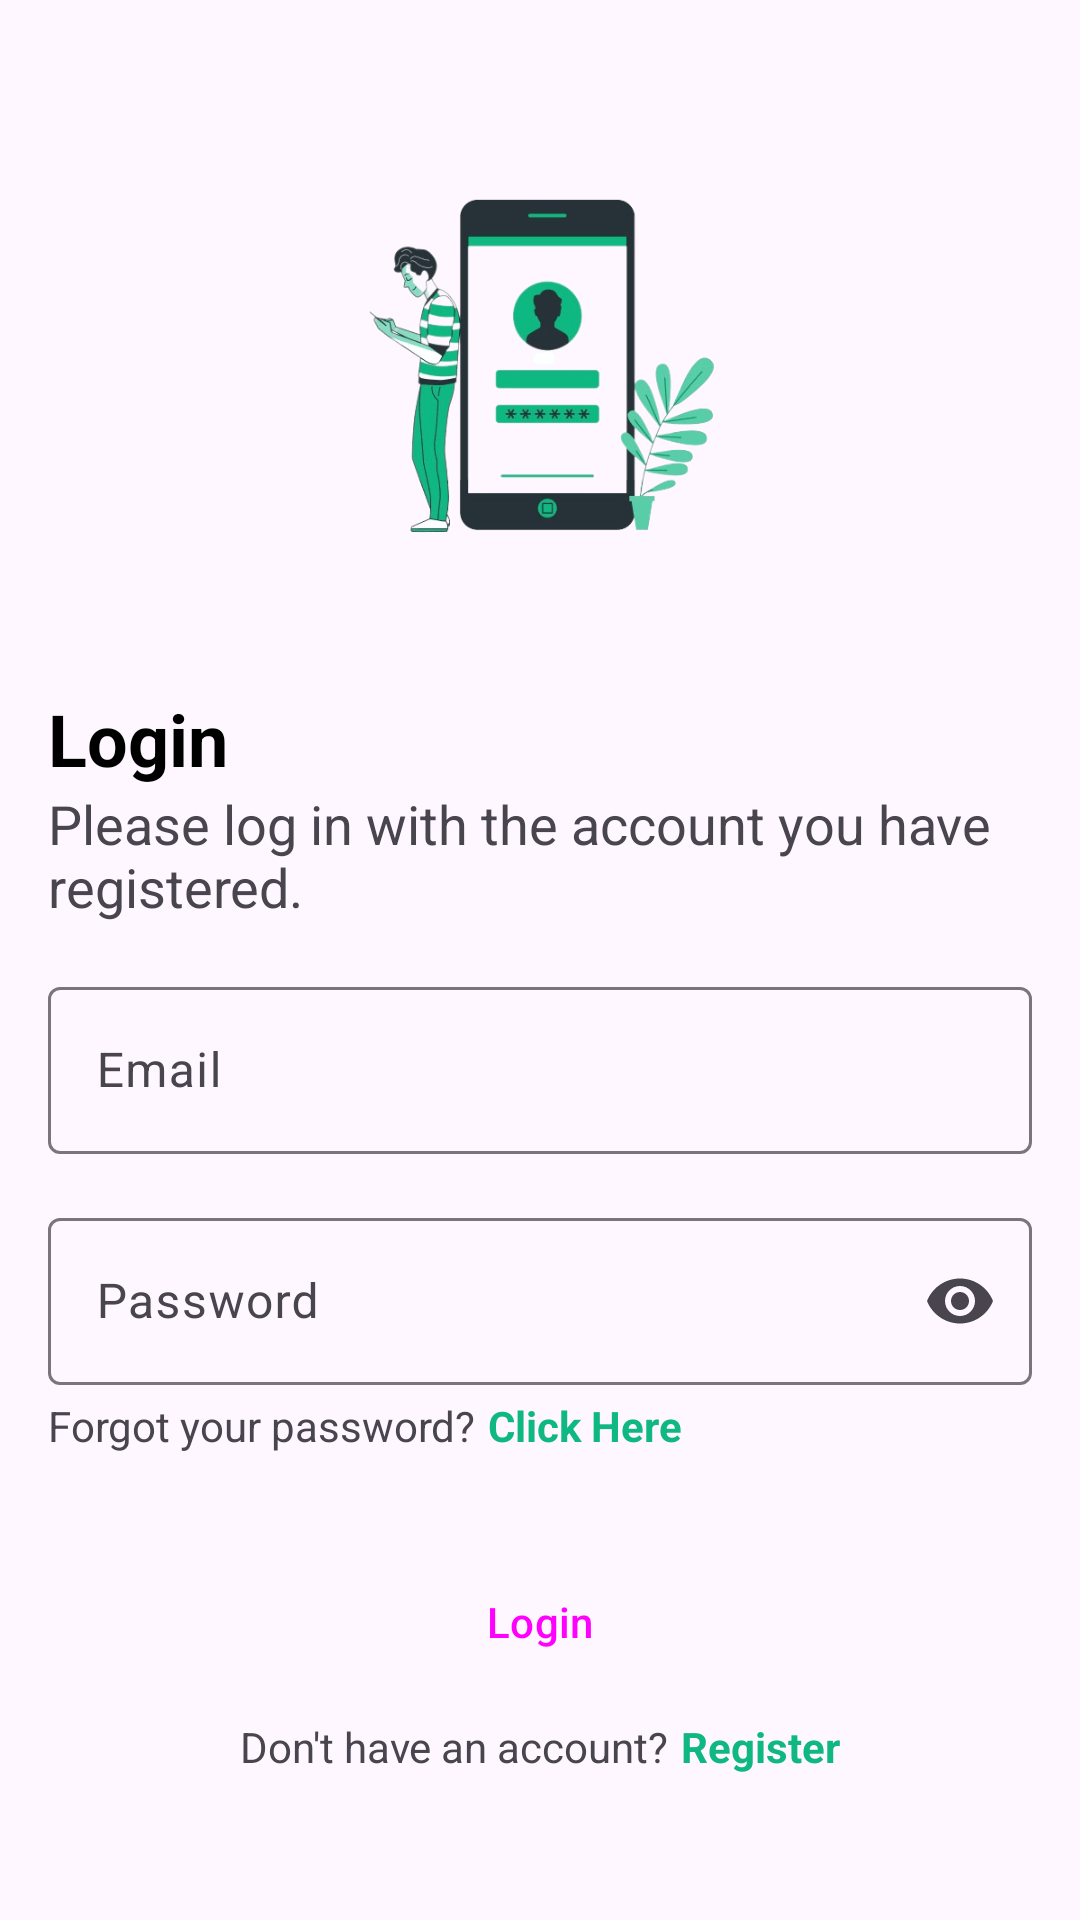

Screen size 1080w x 1920h. Icon name, then its center in pixels as (x,y):
Auth: (542,365)
